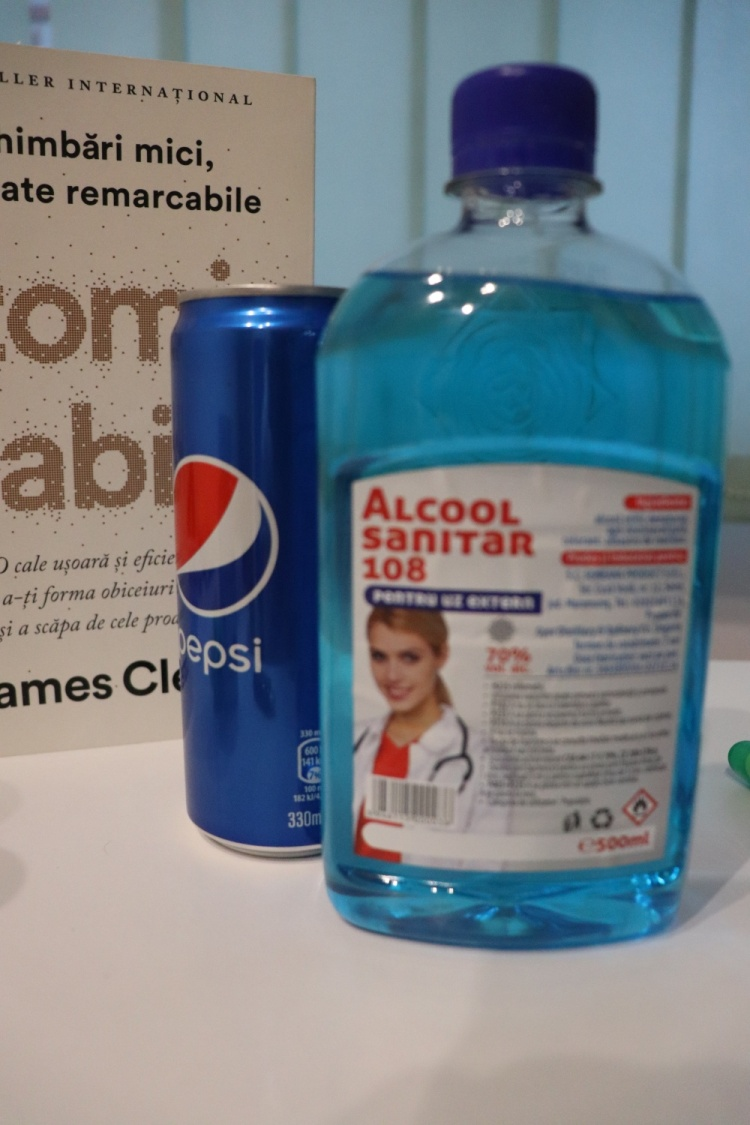pepsi: (161, 276, 357, 868)
